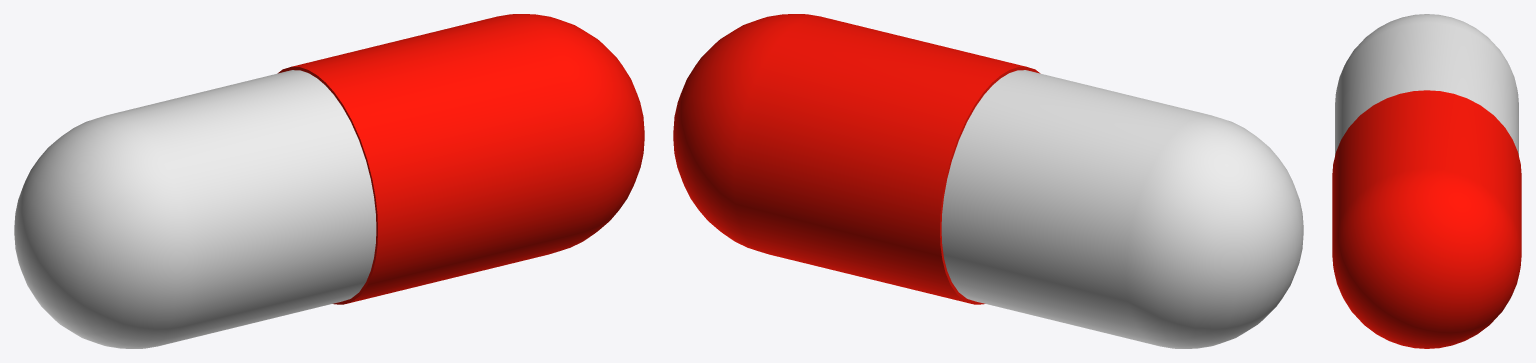
The model's file is vitamin red-white.fbx.
3 views of the same model, side by side, from view 1: azimuth 30°, elevation 25°; view 2: azimuth 150°, elevation 25°; view 3: azimuth 270°, elevation 25° (orthographic). The views are drawn at different scales.
Visible parts, largest first — view 1: Roundcube.001, Roundcube.002; view 2: Roundcube.001, Roundcube.002; view 3: Roundcube.002, Roundcube.001.
Boxes of the visible parts, x1=… form: Roundcube.001: x1=14, y1=70, x2=376, y2=348; Roundcube.002: x1=277, y1=14, x2=644, y2=304; Roundcube.001: x1=941, y1=70, x2=1303, y2=348; Roundcube.002: x1=673, y1=14, x2=1040, y2=304; Roundcube.002: x1=1332, y1=90, x2=1521, y2=348; Roundcube.001: x1=1335, y1=14, x2=1518, y2=155.
Bounding box in the file's own units: 583 × 206 × 206.
